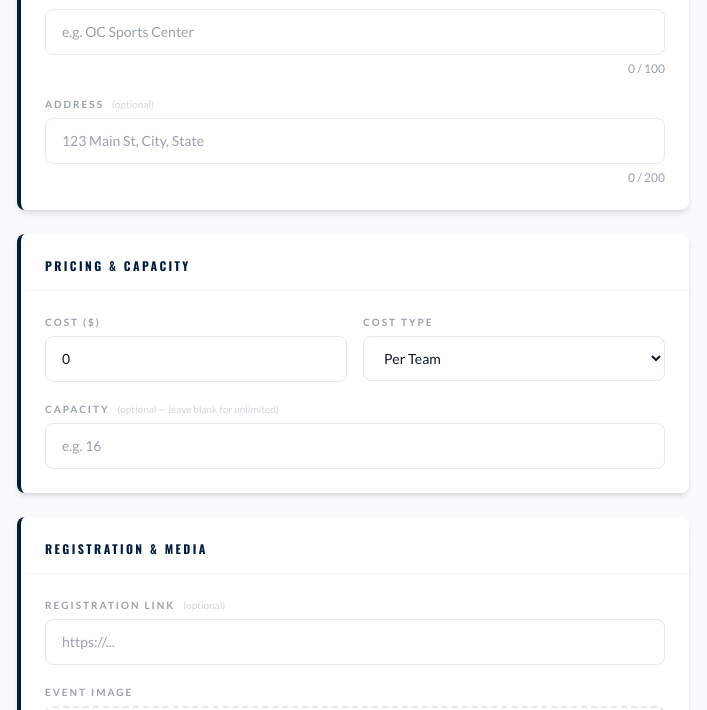
Test: EventForm — close button › cost field inline validation › shows error when user types a negative value
(page scrolled)
Type "-10" into the field with placeholder "0" at (196, 359), box [45, 336, 347, 382]
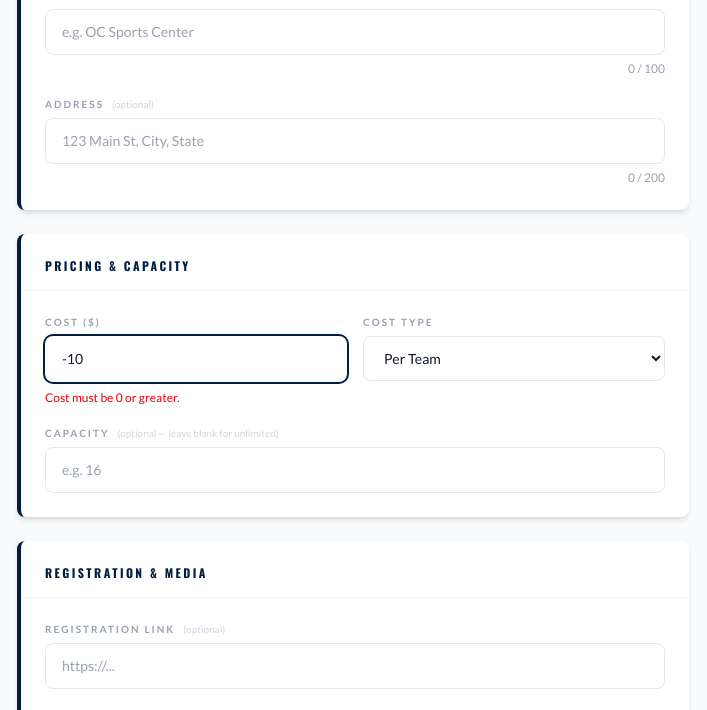
Now the text "Cost must be 0 or greater." is shown, box [45, 390, 180, 405]
